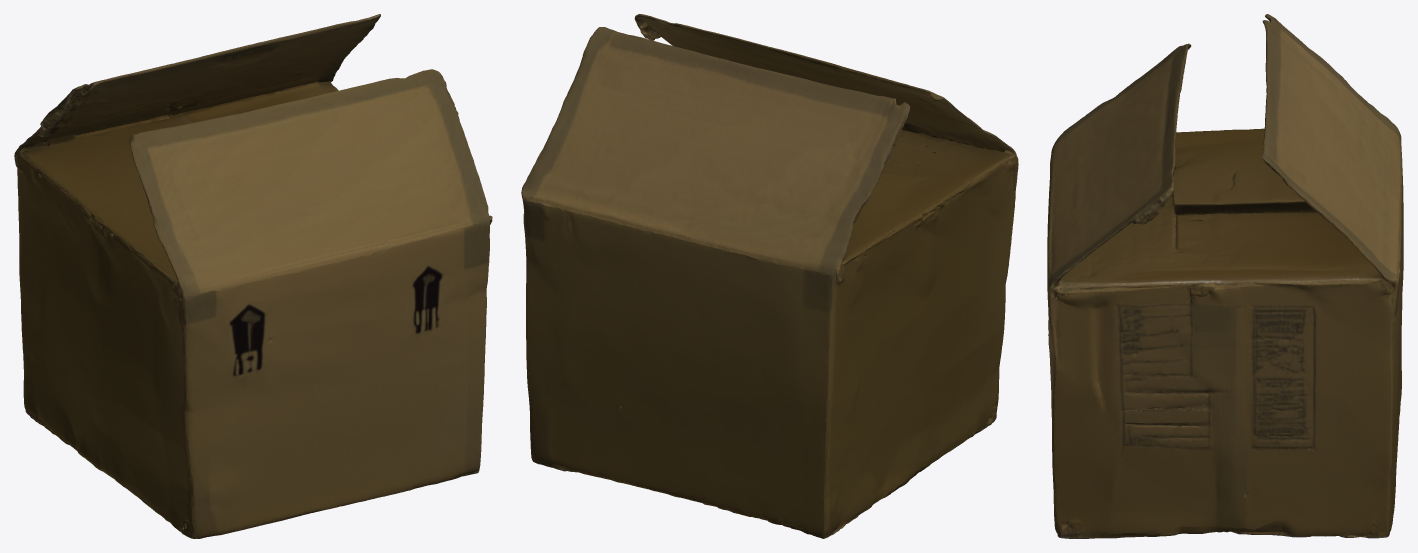
3 renders of one model, left to right at view 1: azimuth 30°, elevation 25°; view 2: azimuth 150°, elevation 25°; view 3: azimuth 270°, elevation 25°, orthographic. The views are drawn at different scales.
Visible parts, largest first — view 1: world; view 2: world; view 3: world.
Boxes of the visible parts, x1,y1,x2,y2 form: world: [14, 14, 492, 538]; world: [521, 14, 1018, 538]; world: [1047, 14, 1403, 538].
Size of the model in its own units: 0.6 by 0.6907 by 0.5831.
Materials: 1 (1 with a texture image).
